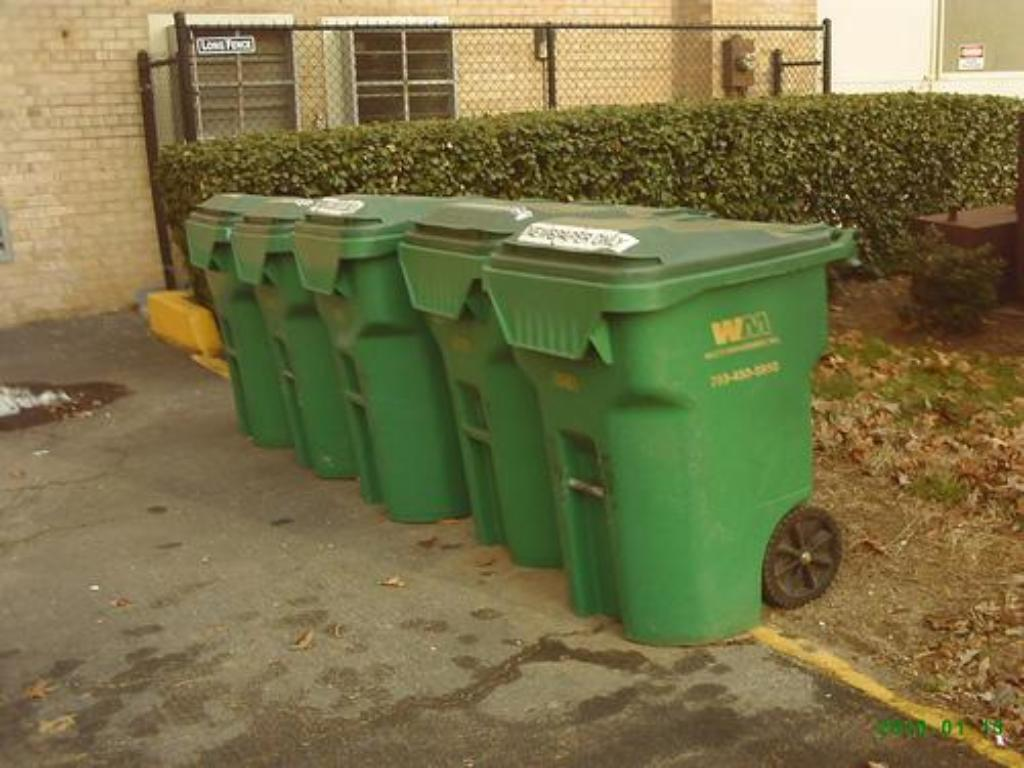dustbin: (505, 199, 848, 635), (199, 185, 503, 522), (400, 188, 621, 563)
